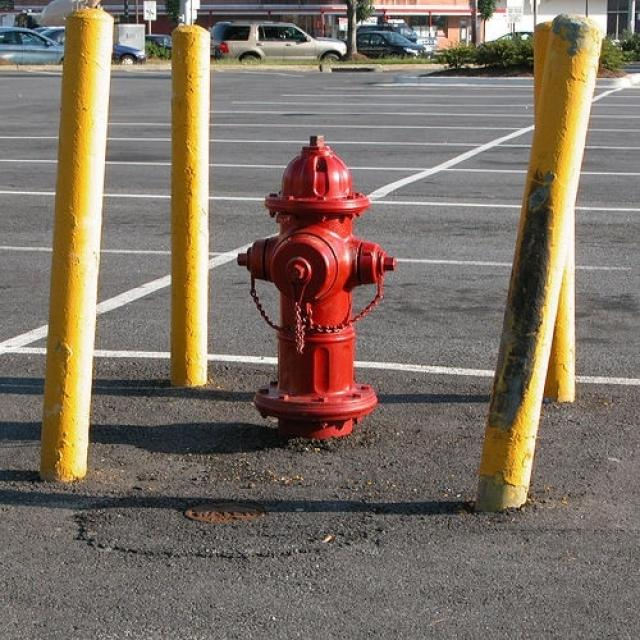fire_hydrant: (236, 120, 404, 480)
